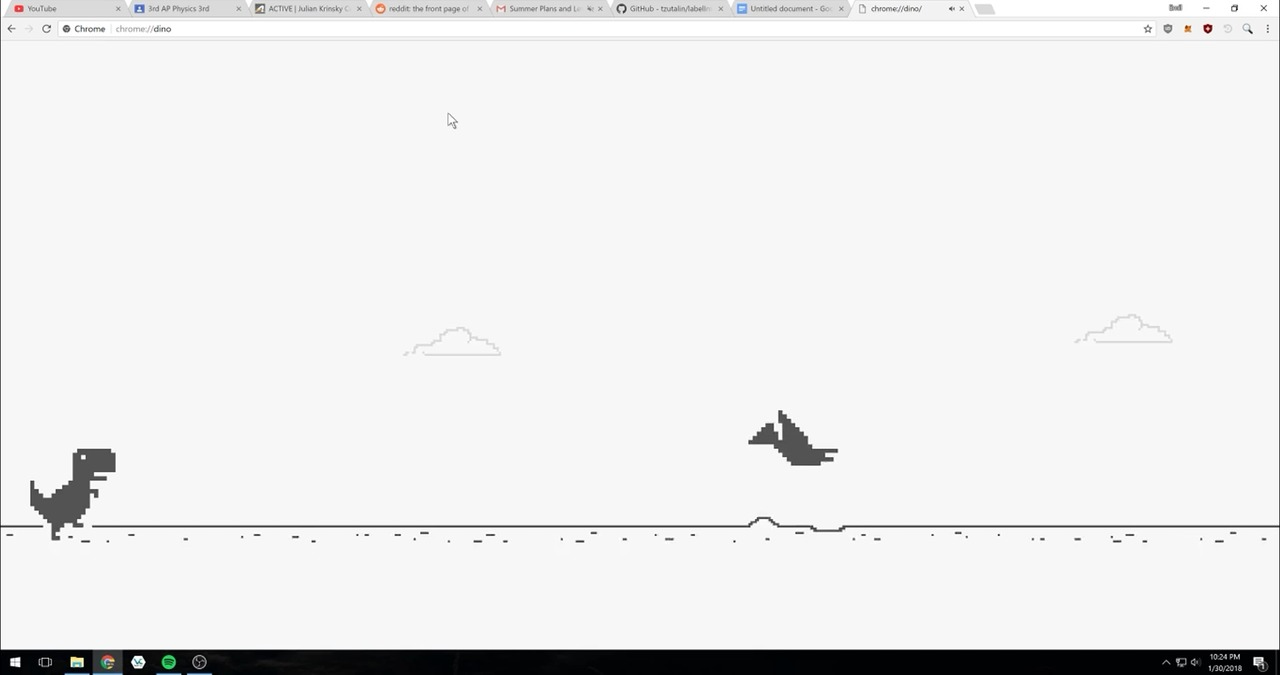bird: (748, 408, 839, 468)
dinosaur: (27, 447, 119, 541)
